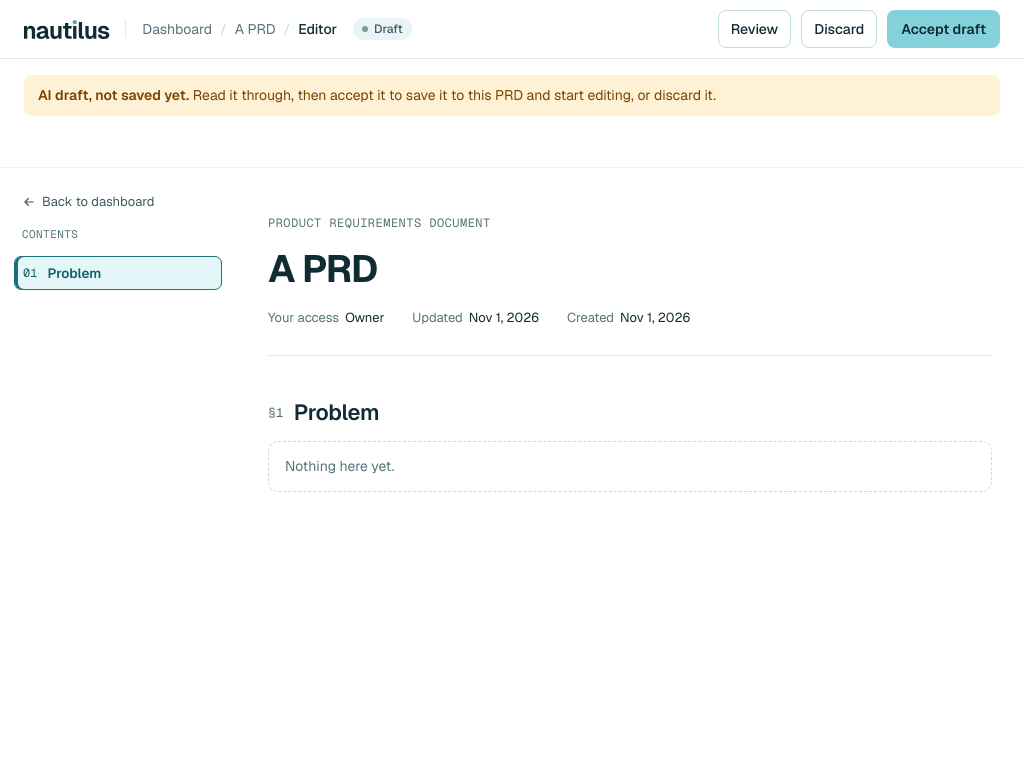
Scenario: the side panel › isn't offered while previewing an AI draft, apart from Review
The image size is (1024, 768).
Click the button "Review" at (754, 29), box [718,10,791,48]
(page scrolled)
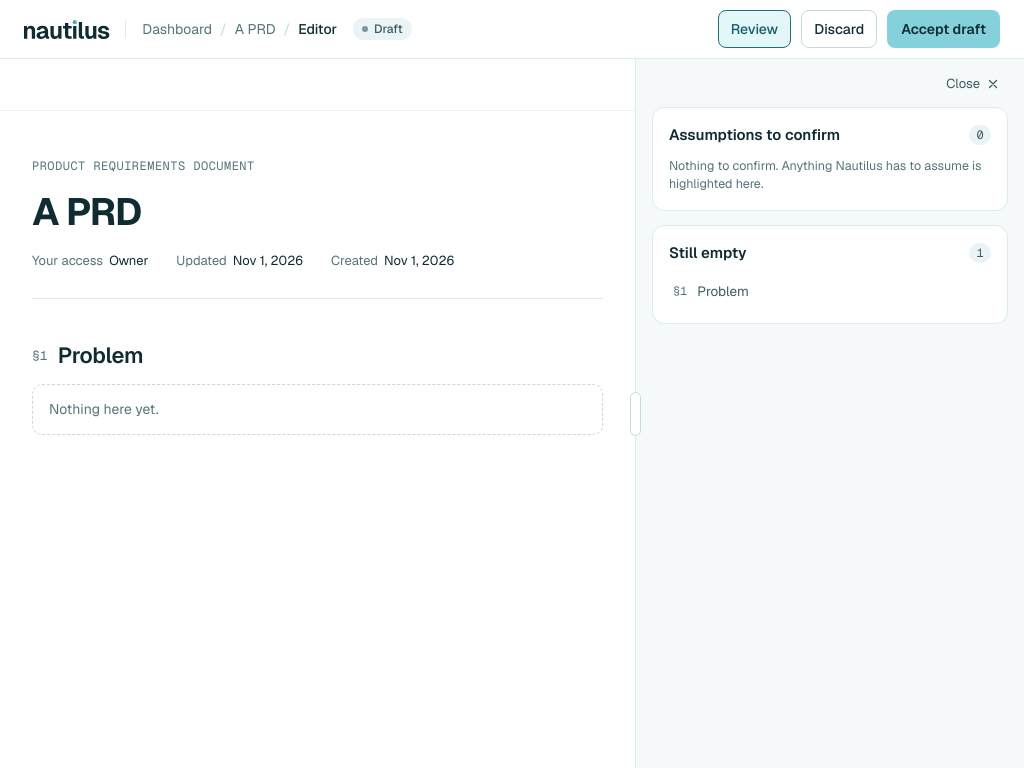
Expected: the element with class "ne-panel" shows "Assumptions to confirm", [669,125,840,144]
